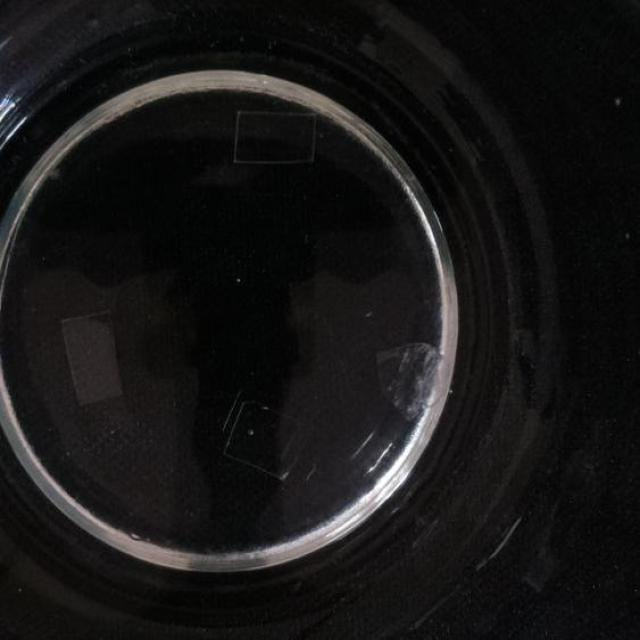fiber: (223, 395, 302, 483), (374, 336, 445, 426), (59, 312, 124, 408), (233, 99, 315, 166)
